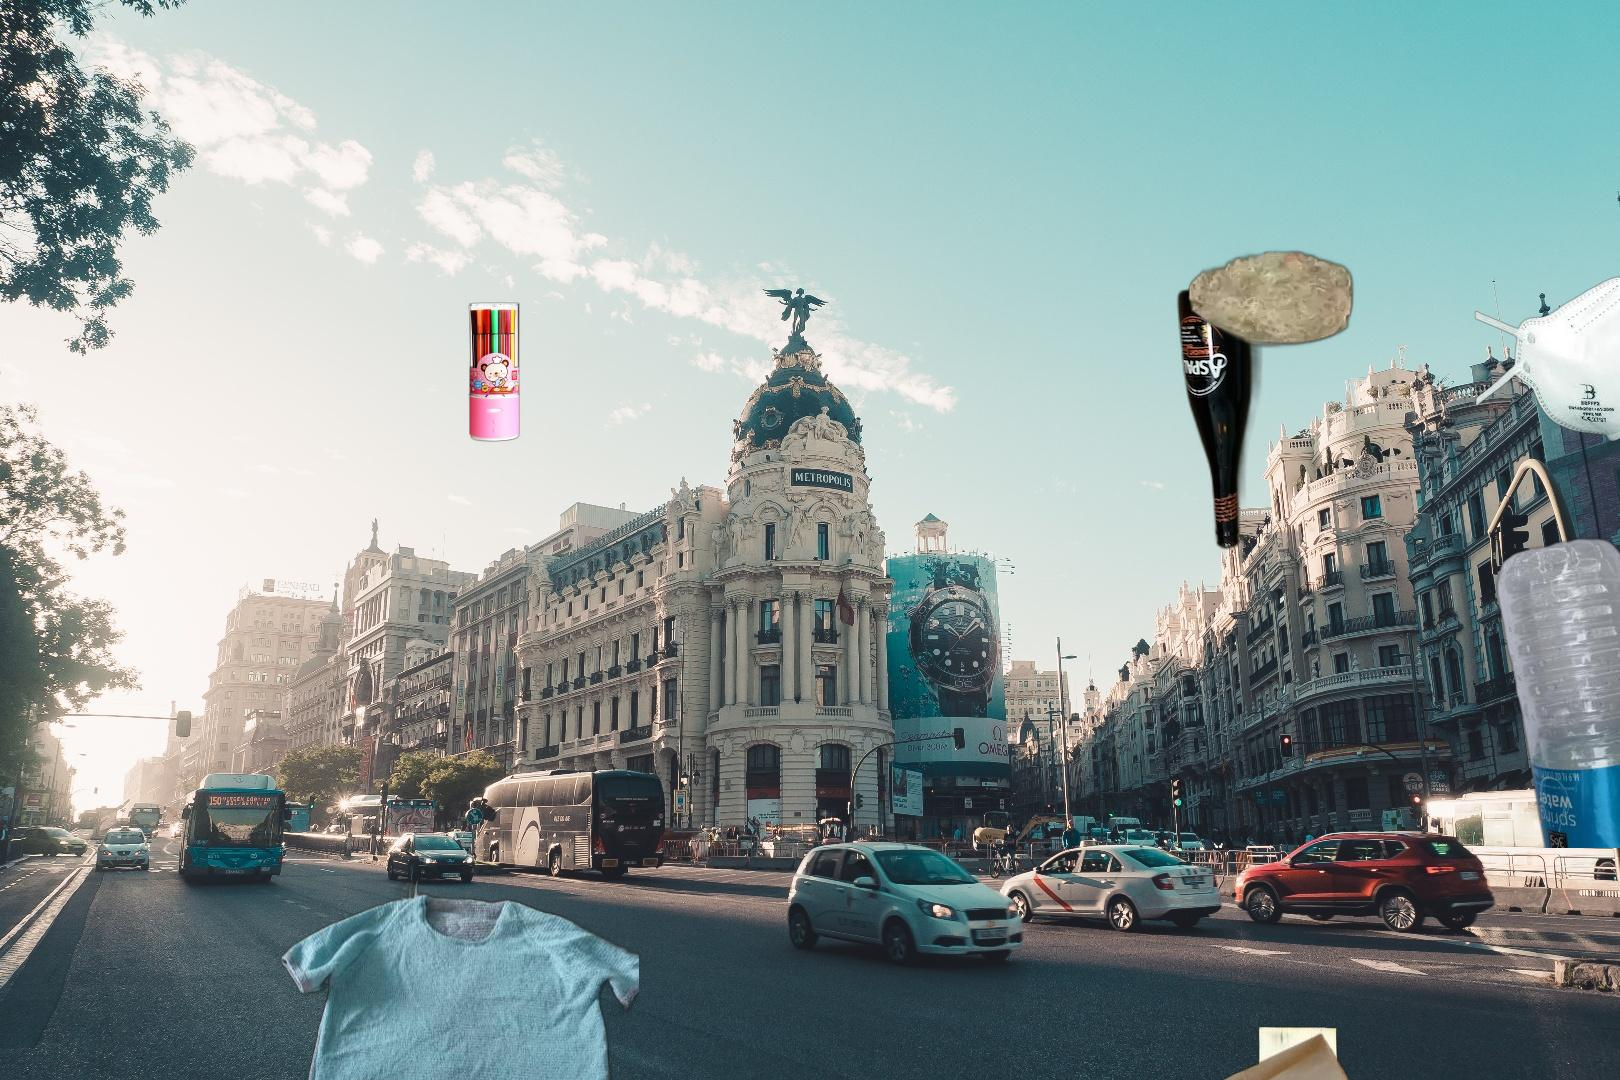biological: (1185, 246, 1357, 352)
clothes: (278, 824, 639, 1080)
glass: (1173, 281, 1264, 554)
paper-bag: (1195, 1026, 1363, 1080)
penholder: (466, 300, 522, 444)
plastic-bottles: (1493, 536, 1620, 849)
trash: (1472, 274, 1620, 444)
